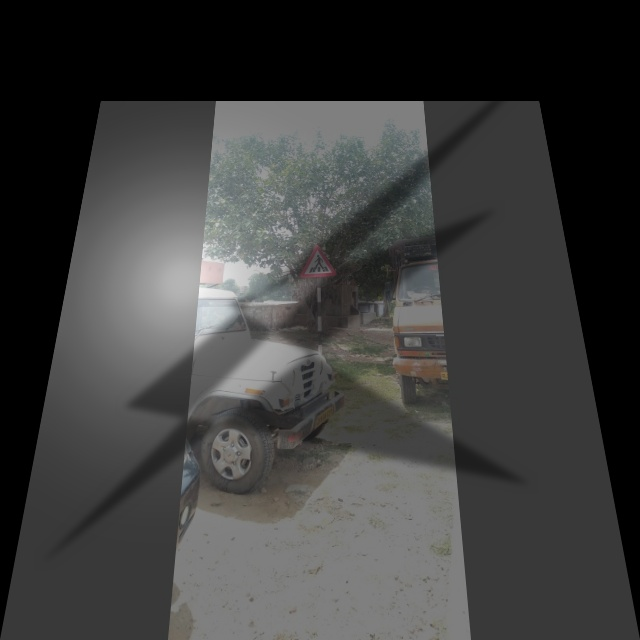Pedestrian_Crossing: (295, 238, 345, 281)
